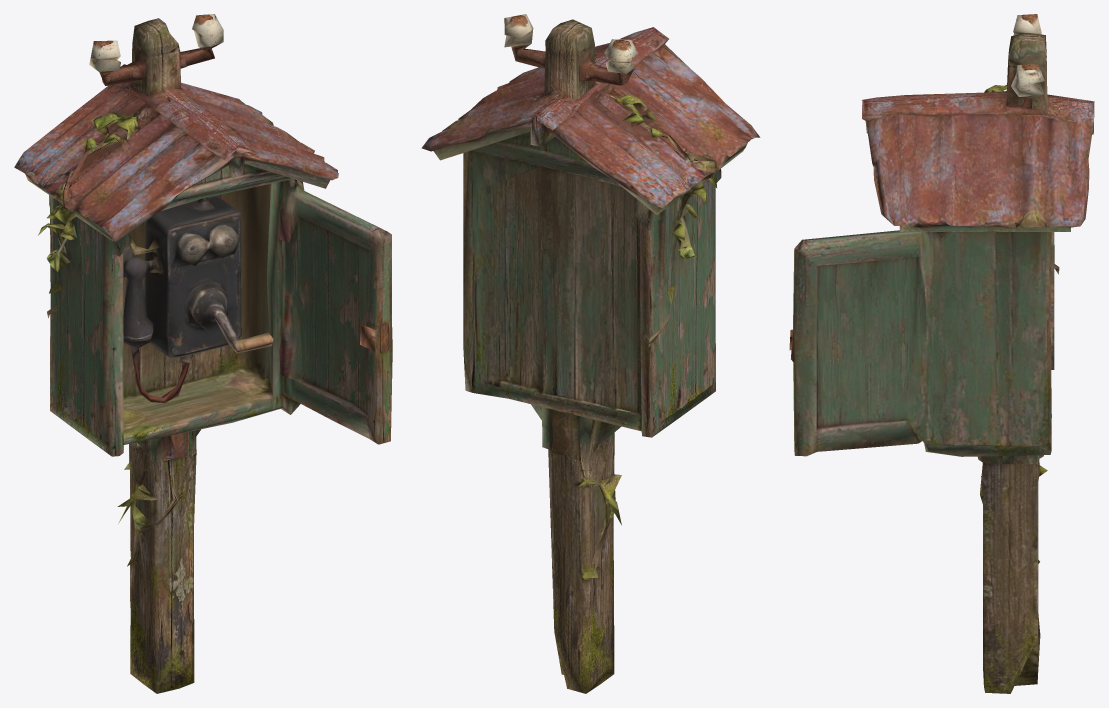
File: phone_box.glb
3 renders of one model, left to right at view 1: azimuth 30°, elevation 25°; view 2: azimuth 150°, elevation 25°; view 3: azimuth 270°, elevation 25°, orthographic.
Parts seen in each view (by area): view 1: rustic payphone 3d model; view 2: rustic payphone 3d model; view 3: rustic payphone 3d model.
Part boxes in pixels (<box>): rustic payphone 3d model: <box>14,14,392,693</box>; rustic payphone 3d model: <box>421,14,760,693</box>; rustic payphone 3d model: <box>789,14,1094,693</box>.
Bounding box in the file's own units: 0.8308 × 2.1 × 0.894.
Materials: 1 (1 with a texture image).
